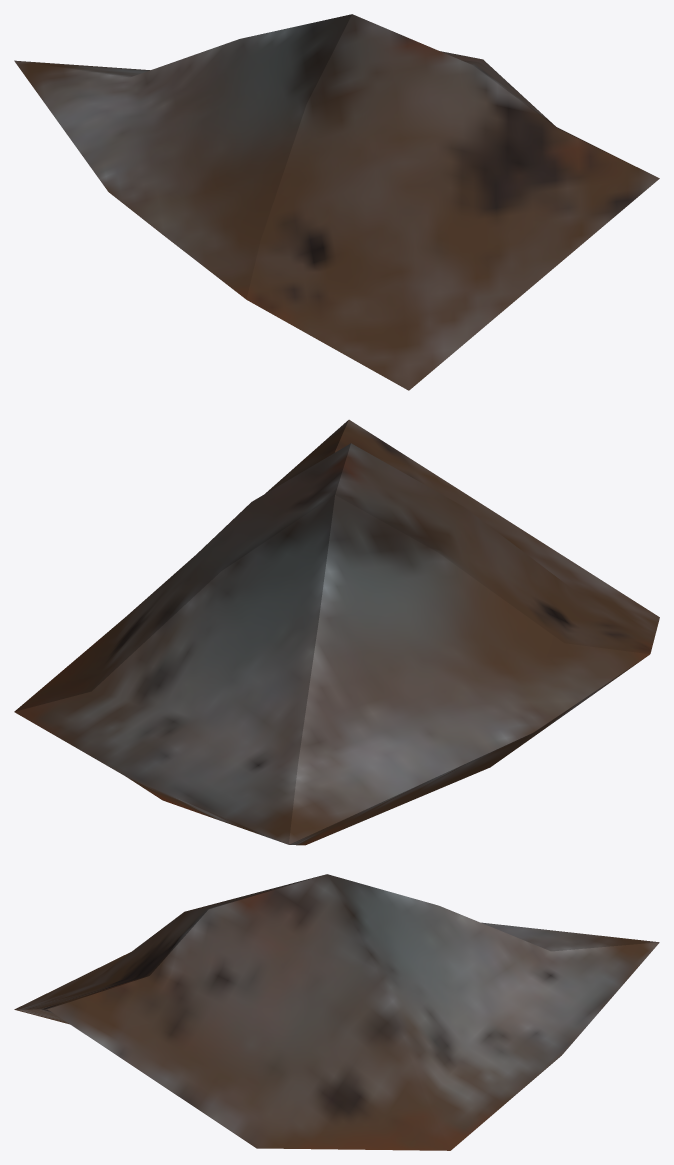
File: RustedArmor_piece4.fbx
3 renders of one model, top to bottom at view 1: azimuth 30°, elevation 25°; view 2: azimuth 150°, elevation 25°; view 3: azimuth 270°, elevation 25°, orthographic. The views are drawn at different scales.
Visible parts, largest first — view 1: armor_piece4; view 2: armor_piece4; view 3: armor_piece4.
Boxes of the visible parts, x1,y1,x2,y2 form: armor_piece4: (14, 14, 659, 390); armor_piece4: (14, 419, 659, 845); armor_piece4: (14, 874, 659, 1150).
Size of the model in its own units: 32.51 by 16.12 by 46.41.
